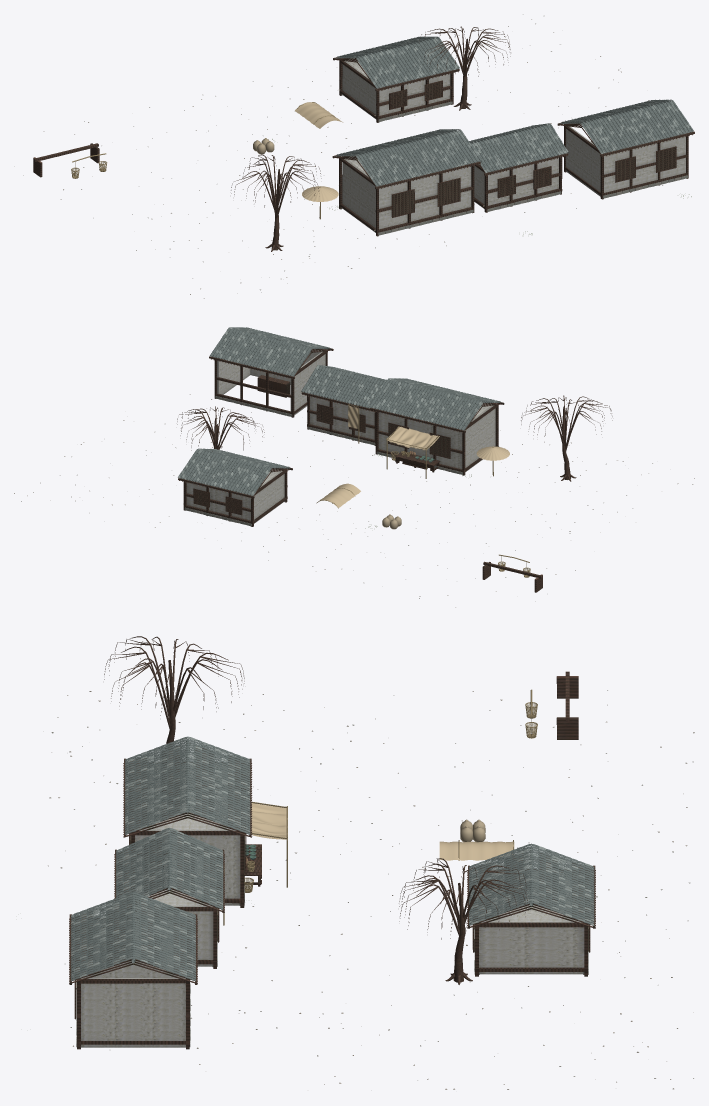
Rendered from d-detail.glb.
The picture shows the model from 3 angles, top to bottom: view 1: azimuth 30°, elevation 25°; view 2: azimuth 150°, elevation 25°; view 3: azimuth 270°, elevation 25°; orthographic projection. The views are drawn at different scales.
Parts seen in each view (by area): view 1: s05_house_b, s04_open_house, s06_low_house, s05_house_a, s06_tree_1, s06_tree_0, s11_canopy, s09_frame, s08_loads, s07_umbrella; view 2: s05_house_b, s04_open_house, s06_low_house, s05_house_a, s07_stall, s06_tree_1, s06_tree_0, s11_canopy, s09_frame; view 3: s04_open_house, s06_low_house, s05_house_b, s05_house_a, s06_tree_0, s06_tree_1, s07_stall, s11_canopy, s09_frame, s08_loads.
Boxes of the visible parts, box(x1,y1,x2,y2) form: s05_house_b: box(332, 129, 481, 236); s04_open_house: box(557, 99, 694, 199); s06_low_house: box(333, 36, 459, 122); s05_house_a: box(469, 123, 568, 212); s06_tree_1: box(231, 154, 321, 251); s06_tree_0: box(419, 26, 510, 110); s11_canopy: box(295, 102, 343, 128); s09_frame: box(33, 143, 99, 177); s08_loads: box(71, 138, 274, 178); s07_umbrella: box(302, 186, 338, 219); s05_house_b: box(369, 378, 504, 475); s04_open_house: box(209, 327, 333, 417); s06_low_house: box(178, 448, 292, 526); s05_house_a: box(301, 365, 386, 445); s07_stall: box(386, 426, 440, 478); s06_tree_1: box(521, 395, 612, 481); s06_tree_0: box(177, 406, 264, 451); s11_canopy: box(316, 483, 360, 508); s09_frame: box(482, 561, 542, 592); s04_open_house: box(69, 892, 197, 1049); s06_low_house: box(467, 843, 595, 976); s05_house_b: box(123, 736, 252, 907); s05_house_a: box(114, 828, 224, 968); s06_tree_0: box(399, 858, 528, 984); s06_tree_1: box(104, 636, 244, 748); s07_stall: box(244, 801, 287, 892); s11_canopy: box(439, 840, 514, 860); s09_frame: box(556, 671, 578, 739); s08_loads: box(460, 689, 537, 842).
Bounding box in the file's own units: 52.69 × 7.68 × 37.63.
Materials: 32 (2 with a texture image).
